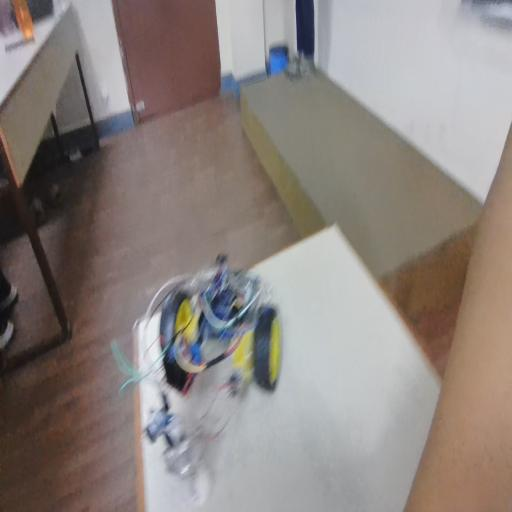car: (148, 241, 300, 452)
